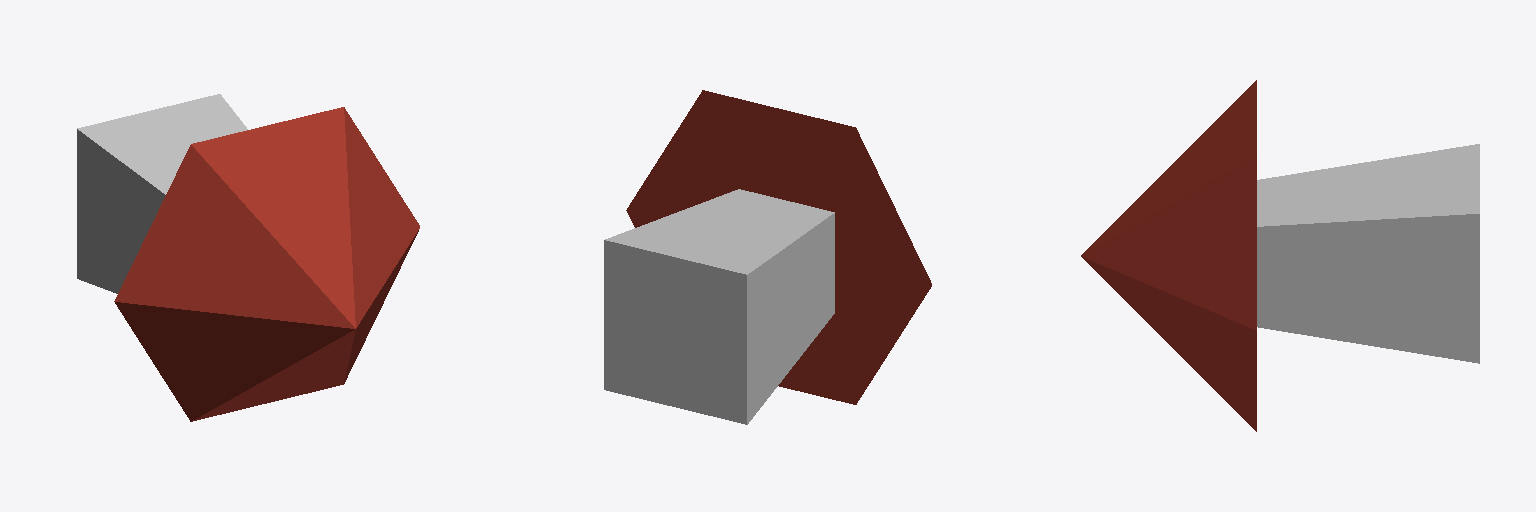
Rendered from mushroom.obj.
3 views of the same model, side by side, from view 1: azimuth 30°, elevation 25°; view 2: azimuth 150°, elevation 25°; view 3: azimuth 270°, elevation 25° (orthographic).
Parts seen in each view (by area): view 1: Mesh1_Mushroom_Red_Model; view 2: Mesh1_Mushroom_Red_Model; view 3: Mesh1_Mushroom_Red_Model.
Part boxes in pixels (bbox=[...]): Mesh1_Mushroom_Red_Model: bbox=[77, 94, 419, 421]; Mesh1_Mushroom_Red_Model: bbox=[604, 90, 931, 424]; Mesh1_Mushroom_Red_Model: bbox=[1081, 80, 1479, 431].
Bounding box in the file's own units: 2.8 × 2.42 × 3.16.